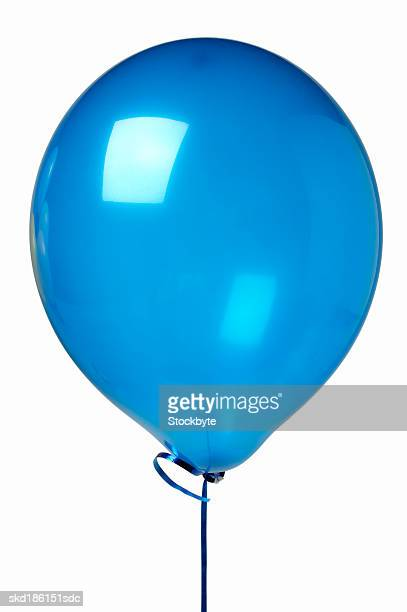Balloon: (29, 38, 385, 471)
